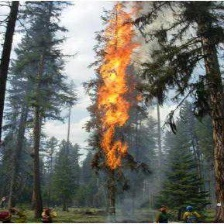fire: (102, 9, 132, 172)
